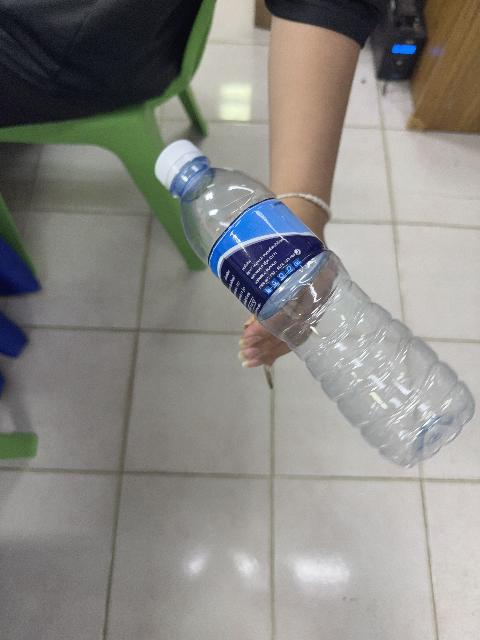bottle: (155, 141, 473, 467)
